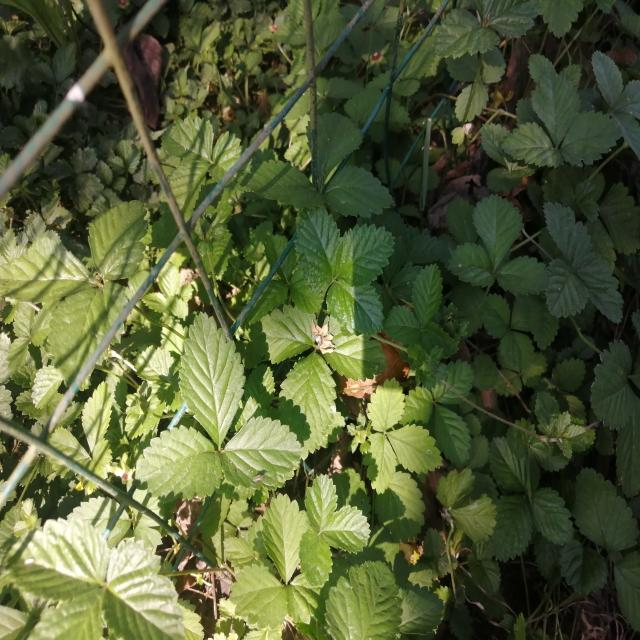Mock_strawberry: (157, 305, 291, 495), (224, 462, 383, 621), (12, 519, 194, 631), (283, 202, 399, 358)
